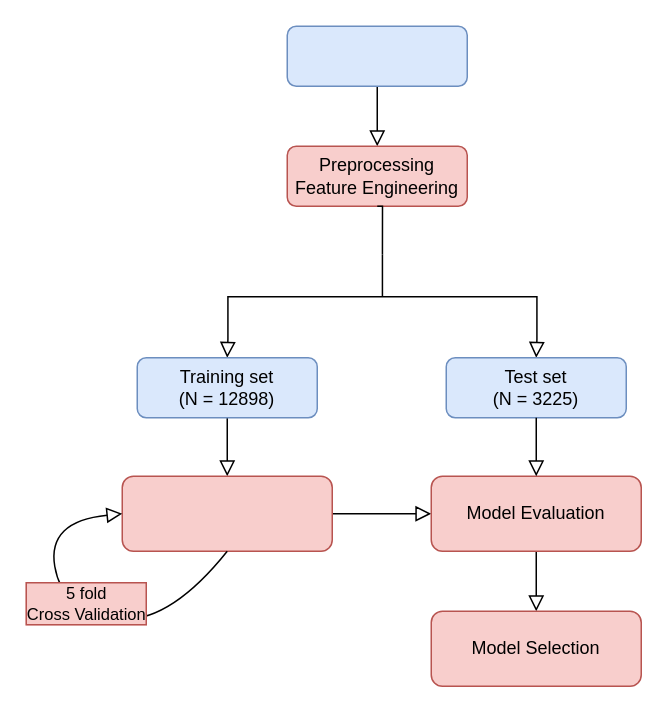
The diagram is 668 pixels wide and 713 high, and some of its shapes have lost their labels. The centre of each missing label's shape, as x and y in pixels:
"Dataset (N = 16123)" belongs at [376,55].
"Model Training Hyperparameter Tuning" belongs at [226,513].
